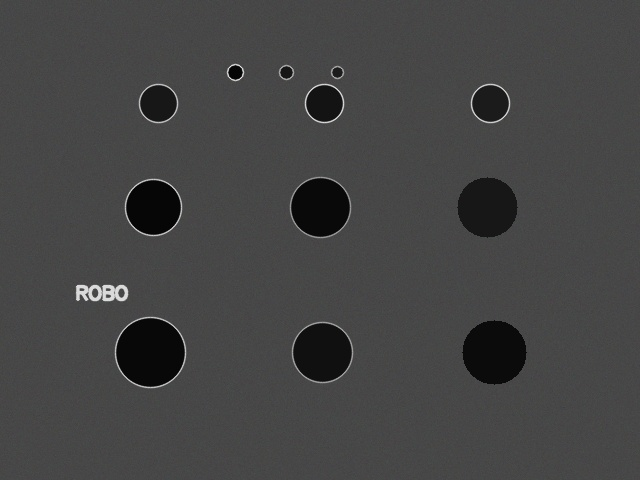hole: (115, 317, 185, 387), (462, 320, 526, 384), (290, 177, 350, 237), (457, 177, 517, 237), (292, 322, 352, 382), (125, 179, 181, 235), (139, 84, 177, 122), (305, 84, 343, 122), (471, 84, 509, 122), (227, 64, 243, 80), (279, 65, 293, 79), (331, 66, 343, 78)
